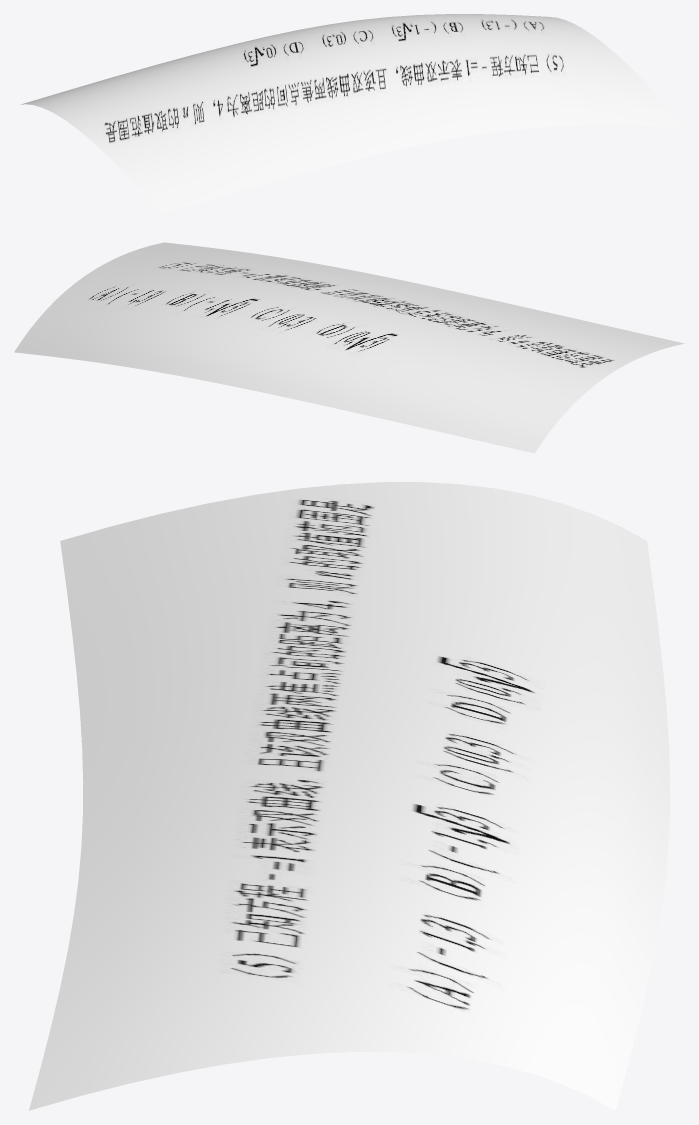
Rendered from math4.fbx.
The picture shows the model from 3 angles, top to bottom: view 1: azimuth 30°, elevation 25°; view 2: azimuth 150°, elevation 25°; view 3: azimuth 270°, elevation 25°; orthographic projection. The views are drawn at different scales.
Visible parts, largest first — view 1: 曲面片; view 2: 曲面片; view 3: 曲面片.
Part boxes in pixels (bbox=[...]): 曲面片: bbox=[21, 14, 684, 213]; 曲面片: bbox=[14, 242, 684, 453]; 曲面片: bbox=[29, 482, 669, 1110].
Bounding box in the file's own units: 418 × 50.32 × 223.
Materials: 1 (1 with a texture image).
